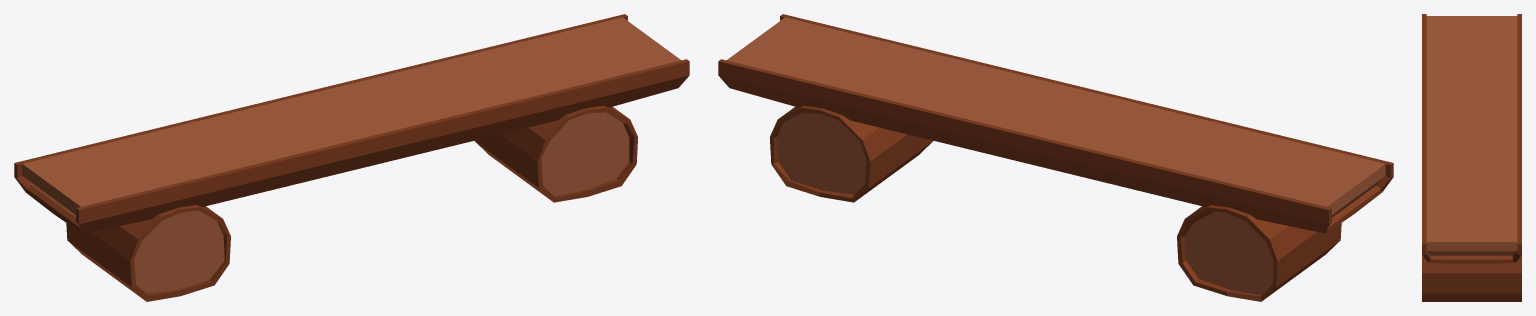
The model's file is Bench_V01.fbx.
3 views of the same model, side by side, from view 1: azimuth 30°, elevation 25°; view 2: azimuth 150°, elevation 25°; view 3: azimuth 270°, elevation 25° (orthographic). The views are drawn at different scales.
Visible parts, largest first — view 1: Bench_V01; view 2: Bench_V01; view 3: Bench_V01.
Part boxes in pixels (<box>): Bench_V01: <box>14,14,689,301</box>; Bench_V01: <box>718,14,1393,301</box>; Bench_V01: <box>1422,14,1521,301</box>.
Bounding box in the file's own units: 252 × 43.68 × 46.2.
